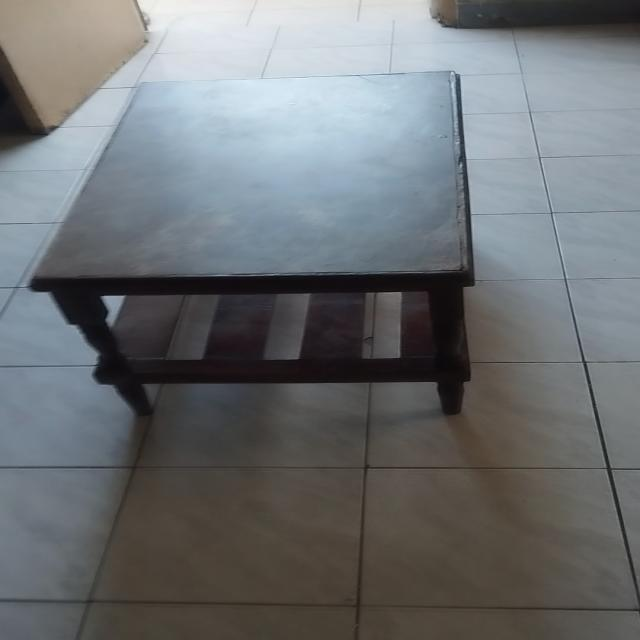table: (26, 69, 487, 423)
